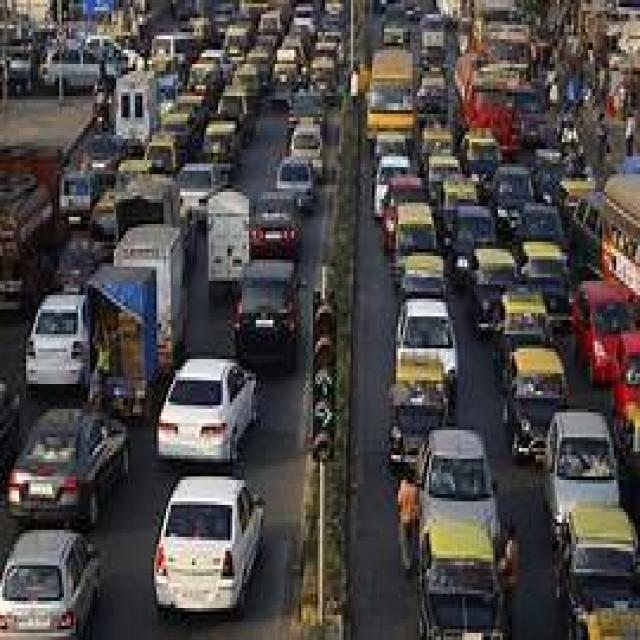Bus: (601, 175, 640, 295)
Car: (426, 128, 640, 638), (376, 158, 500, 638), (155, 480, 264, 614), (10, 409, 127, 524), (0, 531, 100, 638), (157, 358, 255, 460), (26, 294, 89, 385)
Traveller: (601, 174, 640, 299)
Truck: (367, 52, 415, 132)
